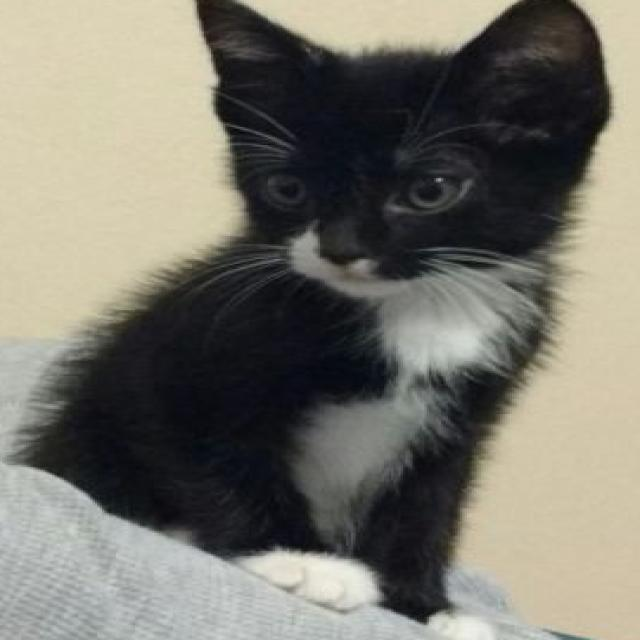Tuxedo: (9, 0, 616, 640)
